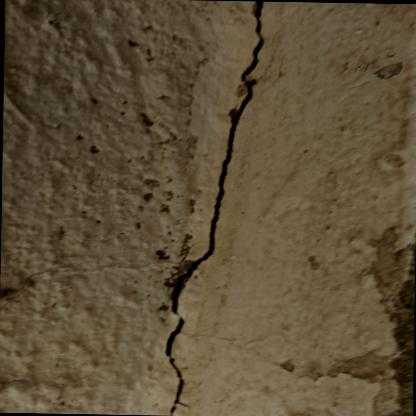crack: (165, 1, 263, 415)
